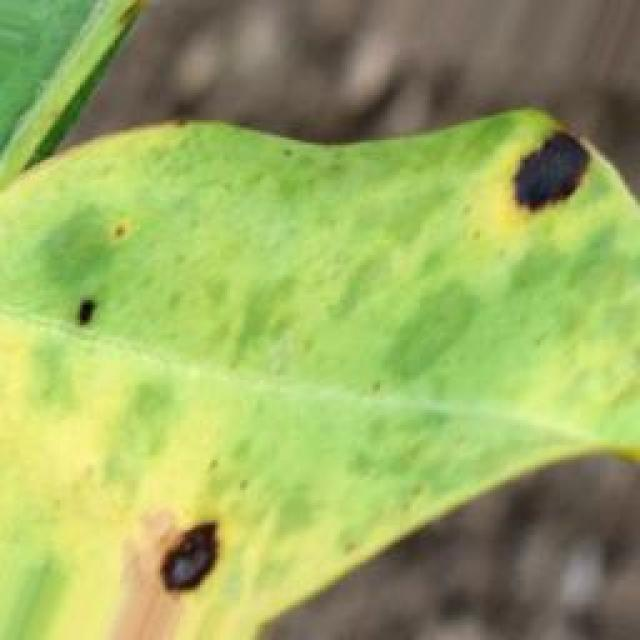Yellowish: (441, 118, 622, 251), (23, 212, 181, 353), (119, 480, 255, 634)
